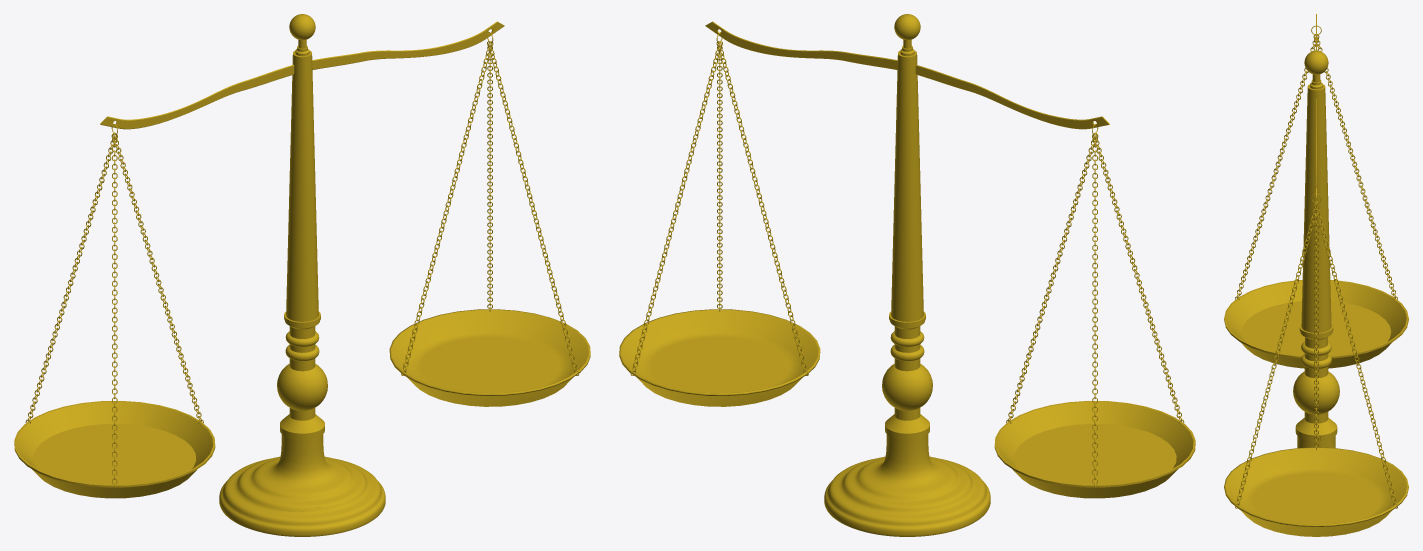
File: balance scales.fbx
3 views of the same model, side by side, from view 1: azimuth 30°, elevation 25°; view 2: azimuth 150°, elevation 25°; view 3: azimuth 270°, elevation 25° (orthographic). The views are drawn at different scales.
Parts seen in each view (by area): view 1: 秤柱, 皿, 皿.001, 平行竿; view 2: 秤柱, 皿, 皿.001, 平行竿; view 3: 皿.001, 皿, 秤柱.
Part boxes in pixels (box(x1,y1,x2,y2)): 秤柱: box(219, 14, 385, 536); 皿: box(14, 123, 215, 498); 皿.001: box(389, 32, 590, 406); 平行竿: box(100, 21, 504, 129); 秤柱: box(824, 14, 990, 536); 皿: box(994, 123, 1195, 498); 皿.001: box(619, 32, 820, 406); 平行竿: box(705, 21, 1109, 129); 皿.001: box(1224, 193, 1408, 536); 皿: box(1224, 25, 1408, 368); 秤柱: box(1293, 50, 1339, 447).
Size of the model in its own units: 3.92 by 3.32 by 1.24.
